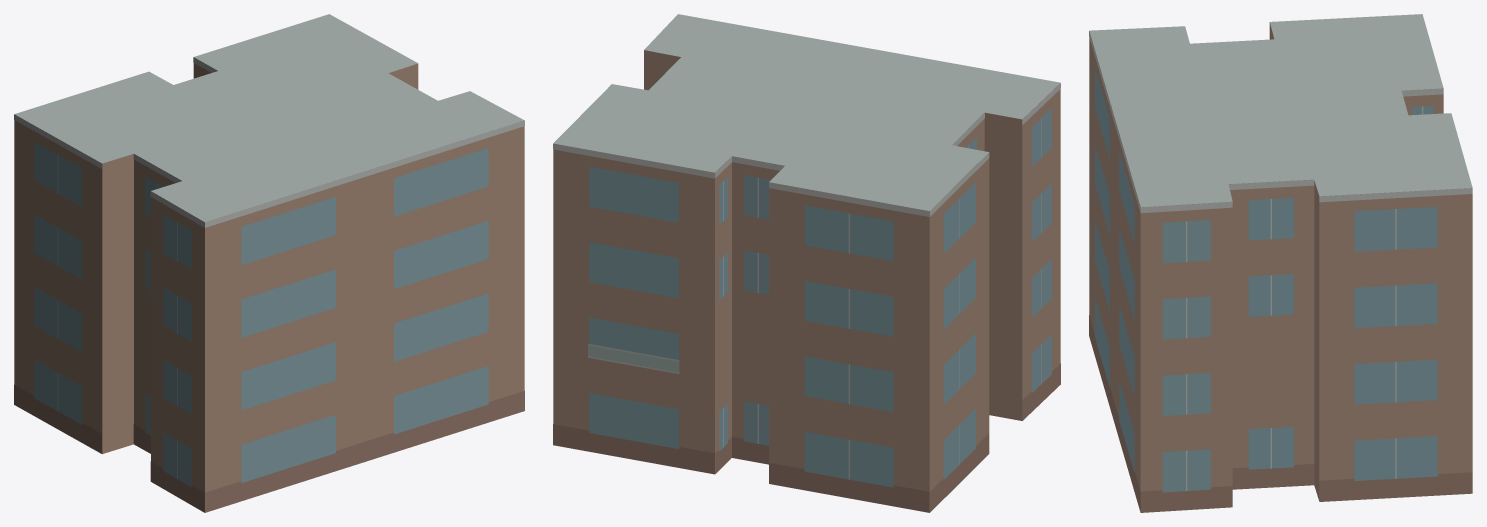
The model's file is survey-upis-32698141.glb.
3 views of the same model, side by side, from view 1: azimuth 30°, elevation 25°; view 2: azimuth 150°, elevation 25°; view 3: azimuth 270°, elevation 25° (orthographic). The views are drawn at different scales.
Visible parts, largest first — view 1: survey-upis-32698141.tmp; view 2: survey-upis-32698141.tmp; view 3: survey-upis-32698141.tmp.
Boxes of the visible parts, left/top/right/bottom form: survey-upis-32698141.tmp: left=14, top=14, right=524, bottom=512; survey-upis-32698141.tmp: left=553, top=14, right=1060, bottom=512; survey-upis-32698141.tmp: left=1089, top=14, right=1472, bottom=512.
Bounding box in the file's own units: 16.82 × 12.4 × 14.11.
